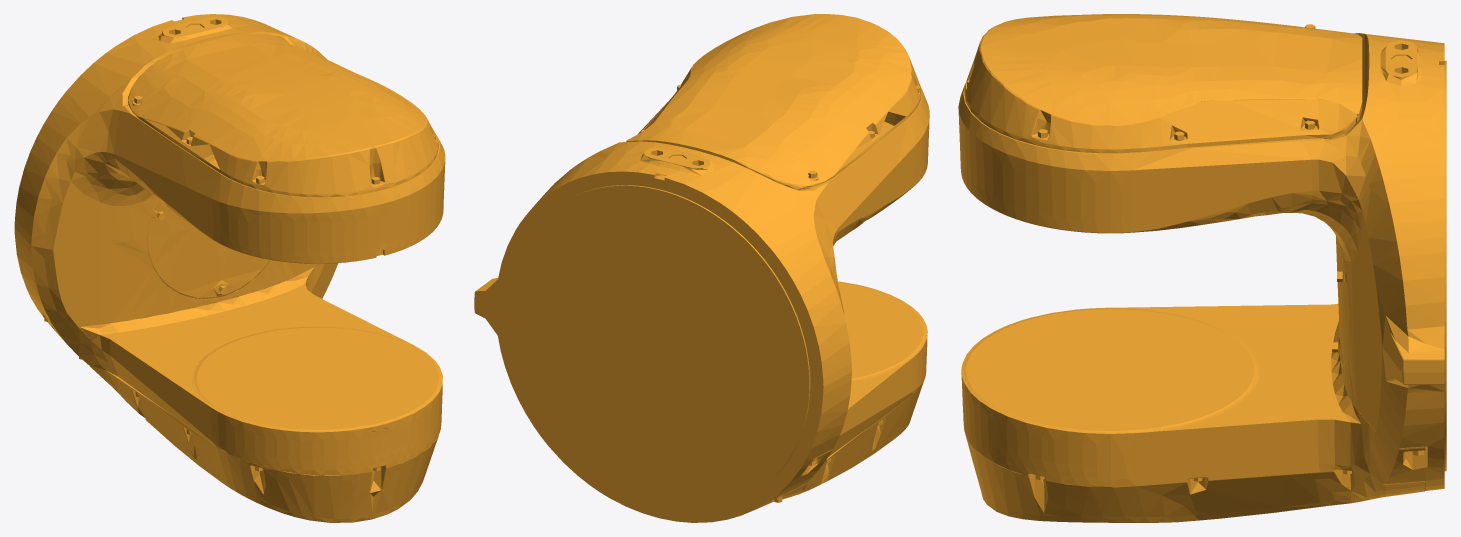
File: ABBIRB1200Link1.dae
3 views of the same model, side by side, from view 1: azimuth 30°, elevation 25°; view 2: azimuth 150°, elevation 25°; view 3: azimuth 270°, elevation 25° (orthographic). The views are drawn at different scales.
Parts seen in each view (by area): view 1: ABBIRB1200Link1; view 2: ABBIRB1200Link1; view 3: ABBIRB1200Link1.
Boxes of the visible parts, x1=… form: ABBIRB1200Link1: x1=14, y1=14, x2=445, y2=522; ABBIRB1200Link1: x1=474, y1=14, x2=929, y2=522; ABBIRB1200Link1: x1=958, y1=14, x2=1446, y2=522.
Size of the model in its own units: 0.2588 by 0.2614 by 0.2636.
